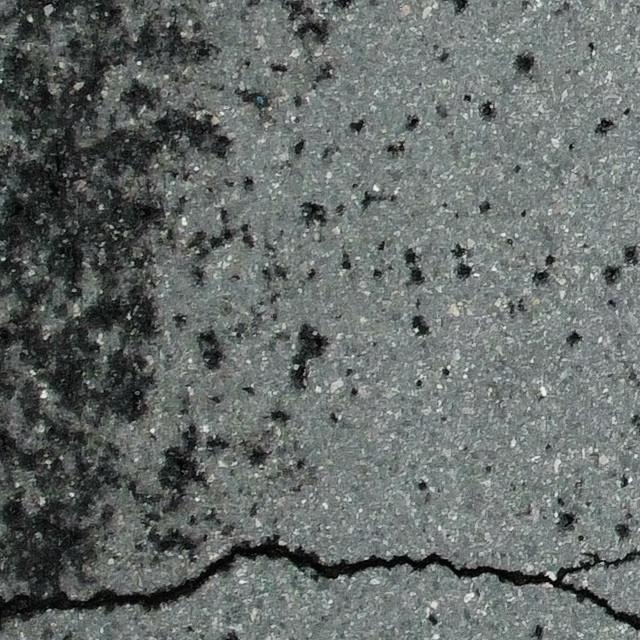TransverseCrack: (2, 535, 640, 631)
